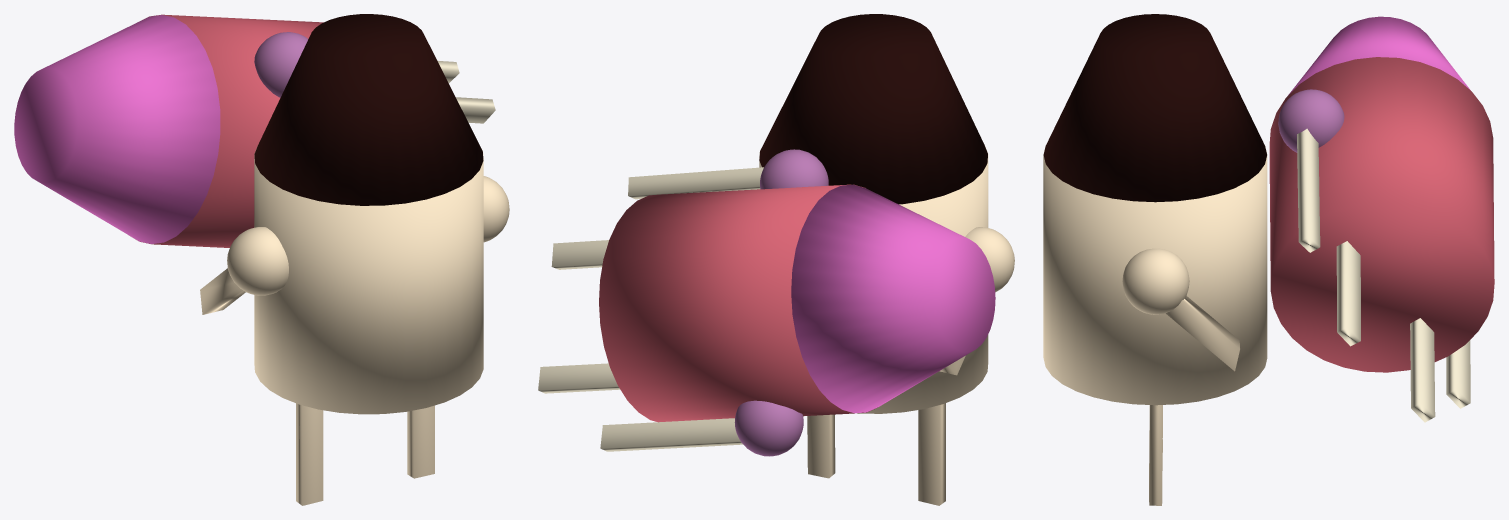
Rendered from Chad_n_Stacy.fbx.
3 views of the same model, side by side, from view 1: azimuth 30°, elevation 25°; view 2: azimuth 150°, elevation 25°; view 3: azimuth 270°, elevation 25° (orthographic). The views are drawn at different scales.
Parts seen in each view (by area): view 1: core.001, head.002, head.001, core.002, right_leg.001, right_shoulder.001, left_shoulder.002, left_shoulder.001, left_leg.002; view 2: core.002, head.002, head.001, core.001, right_leg.001, right_arm.002, right_shoulder.002, left_arm.002, left_shoulder.002, right_leg.002, right_shoulder.001, left_leg.002; view 3: core.002, core.001, head.001, head.002, right_leg.001, left_shoulder.001, left_shoulder.002, left_arm.002, right_leg.002, left_leg.002, right_arm.002.
Boxes of the visible parts, x1,y1,x2,y2 form: core.001: [254, 146, 483, 414]; head.002: [14, 15, 220, 244]; head.001: [254, 14, 483, 205]; core.002: [130, 14, 323, 247]; right_leg.001: [200, 268, 434, 505]; right_shoulder.001: [227, 227, 288, 295]; left_shoulder.002: [254, 32, 308, 97]; left_shoulder.001: [483, 176, 509, 242]; left_leg.002: [456, 97, 495, 123]; core.002: [599, 184, 877, 422]; head.002: [791, 184, 995, 413]; head.001: [759, 14, 987, 204]; core.001: [759, 146, 988, 413]; right_leg.001: [807, 355, 965, 505]; right_arm.002: [600, 418, 742, 451]; right_shoulder.002: [734, 400, 803, 456]; left_arm.002: [628, 167, 763, 199]; left_shoulder.002: [760, 149, 828, 189]; right_leg.002: [538, 363, 619, 393]; right_shoulder.001: [965, 227, 1014, 292]; left_leg.002: [551, 240, 608, 269]; core.002: [1269, 57, 1494, 372]; core.001: [1043, 146, 1267, 405]; head.001: [1043, 14, 1266, 202]; head.002: [1288, 16, 1470, 95]; right_leg.001: [1149, 296, 1239, 505]; left_shoulder.001: [1122, 248, 1189, 314]; left_shoulder.002: [1278, 89, 1344, 152]; left_arm.002: [1297, 128, 1320, 252]; right_leg.002: [1410, 318, 1435, 422]; left_leg.002: [1336, 241, 1360, 346]; right_arm.002: [1446, 340, 1470, 408].
Size of the model in its own units: 282 by 274 by 255.
